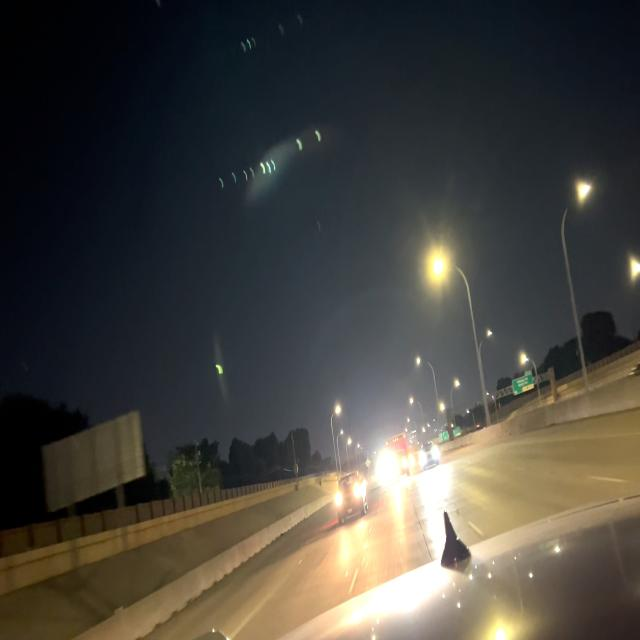back-of-sign: (41, 412, 146, 519)
